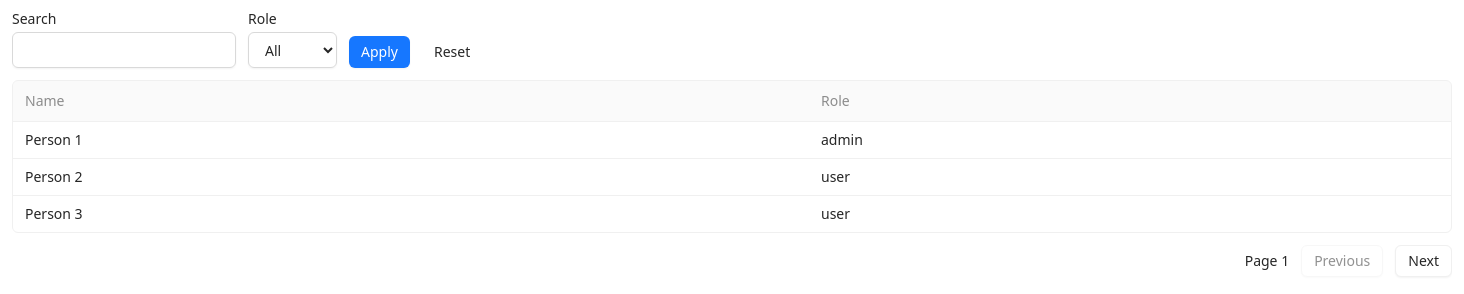
DataTable › 总数未知时按「是否还有下一页」启用翻页
The width and height of the screenshot is (1464, 294).
Expected: the message reads "Page 1", top-left (1245, 250), bottom-right (1289, 270)
Click the button "Next" at (1424, 260), box top-left (1395, 244), bottom-right (1452, 276)
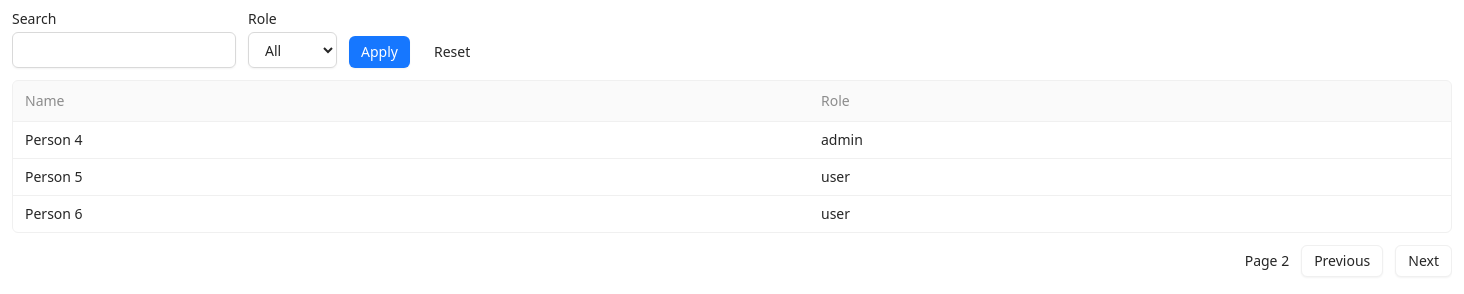
Click the button "Next" at (1424, 260), box top-left (1395, 244), bottom-right (1452, 276)
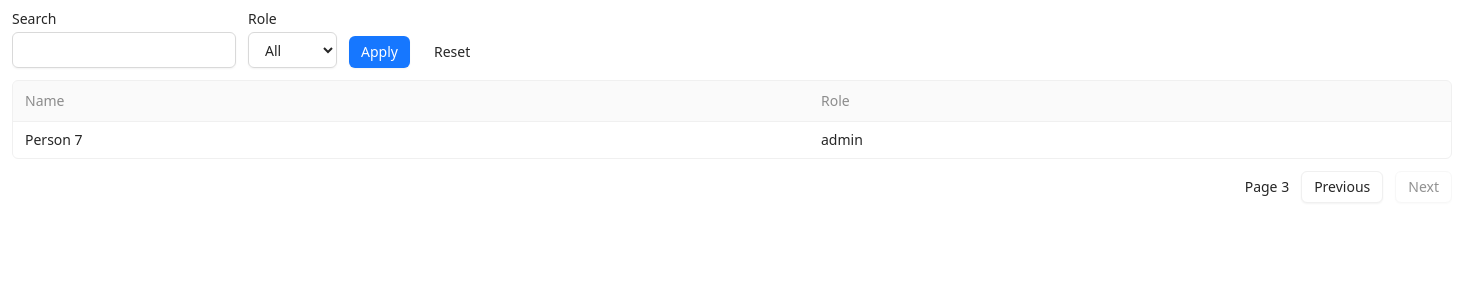
Expected: the message reads "Page 3", top-left (1245, 176), bottom-right (1289, 196)
Expected: the button "Next" is disabled, top-left (1395, 170), bottom-right (1452, 202)
